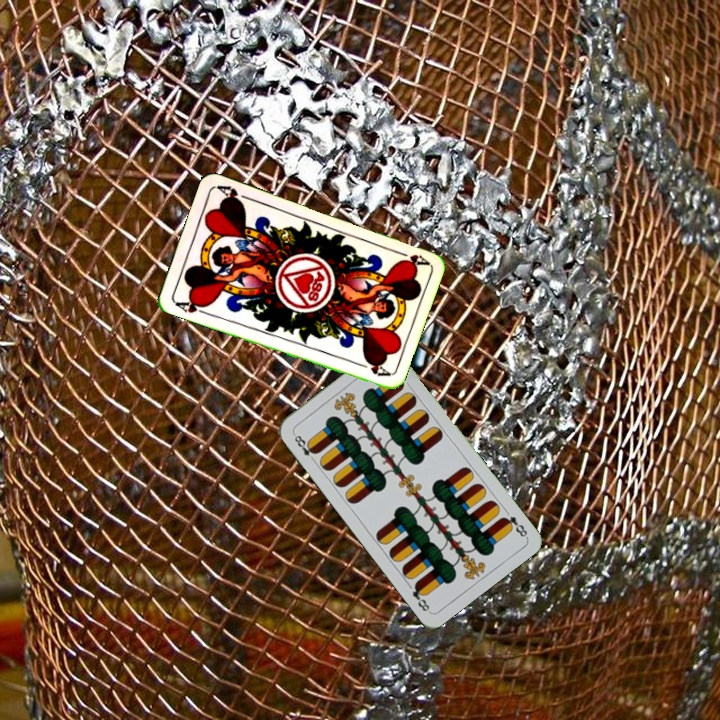E8: (289, 429, 320, 465), (498, 512, 530, 540)
HA: (391, 246, 430, 270), (171, 295, 211, 317)
